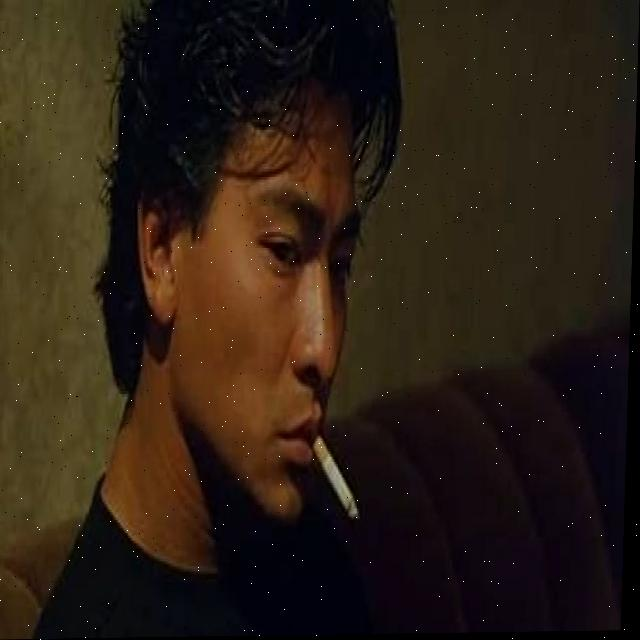cigarette: (310, 430, 365, 522)
